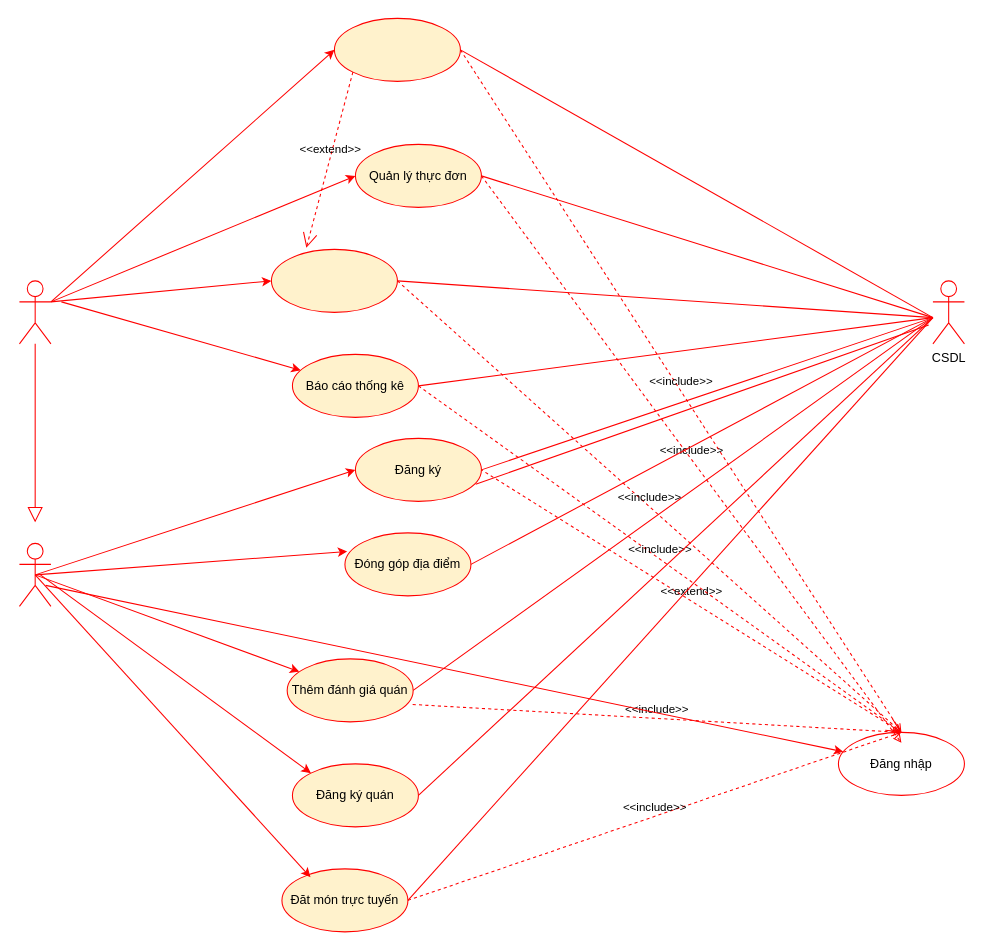
The diagram is 984 pixels wide and 950 high, and some of its shapes have lost their labels. The centre of each missing label's shape, as x and y in pixels:
"admin" goes at point 34,312.
"Quản lý phiếu nhập xuất kho" goes at point 333,280.
"Quản lý đặt món" goes at point 396,49.
"user" goes at point 34,574.
